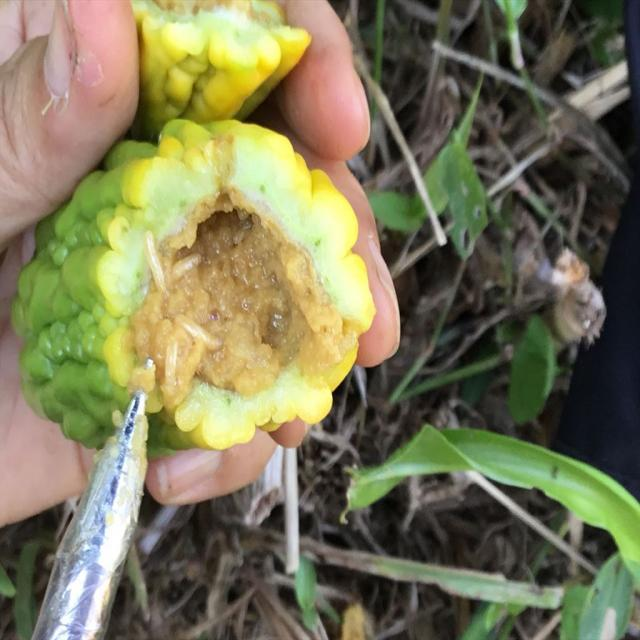Fruit fly: (119, 175, 355, 428)
